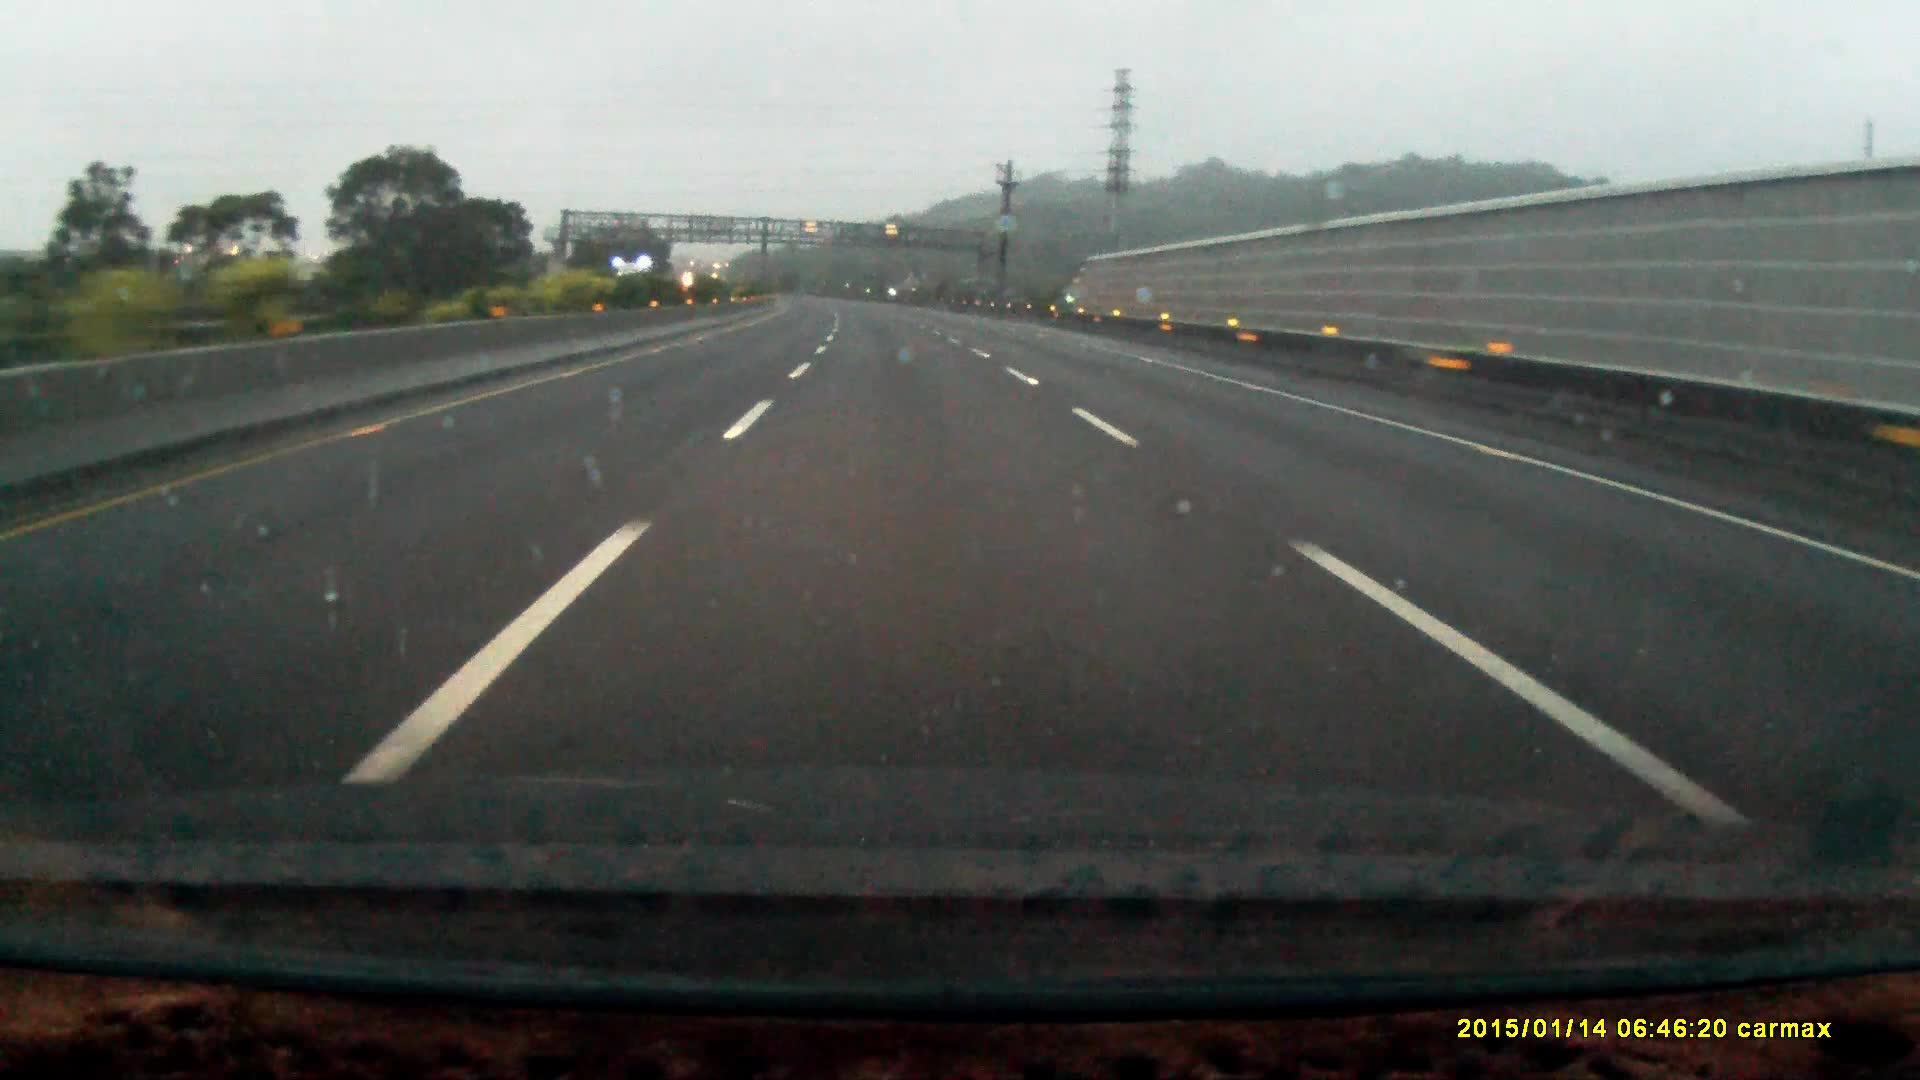vehicle: (613, 261, 657, 310)
